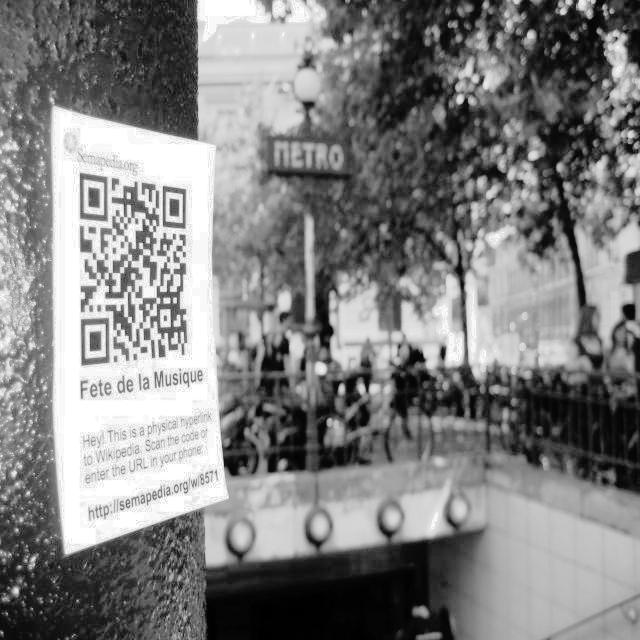qr_code: (80, 173, 188, 366)
